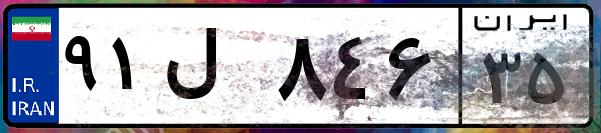1: (110, 28, 158, 98)
3: (475, 38, 525, 113)
4: (330, 28, 385, 110)
5: (525, 38, 570, 115)
6: (385, 28, 445, 110)
8: (270, 28, 330, 110)
9: (57, 26, 110, 100)
ل: (158, 20, 270, 120)
